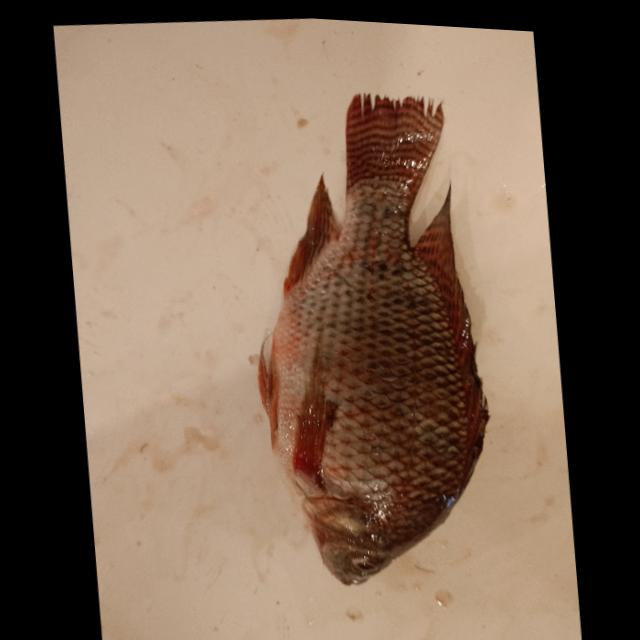Tilapia: (232, 76, 507, 600)
